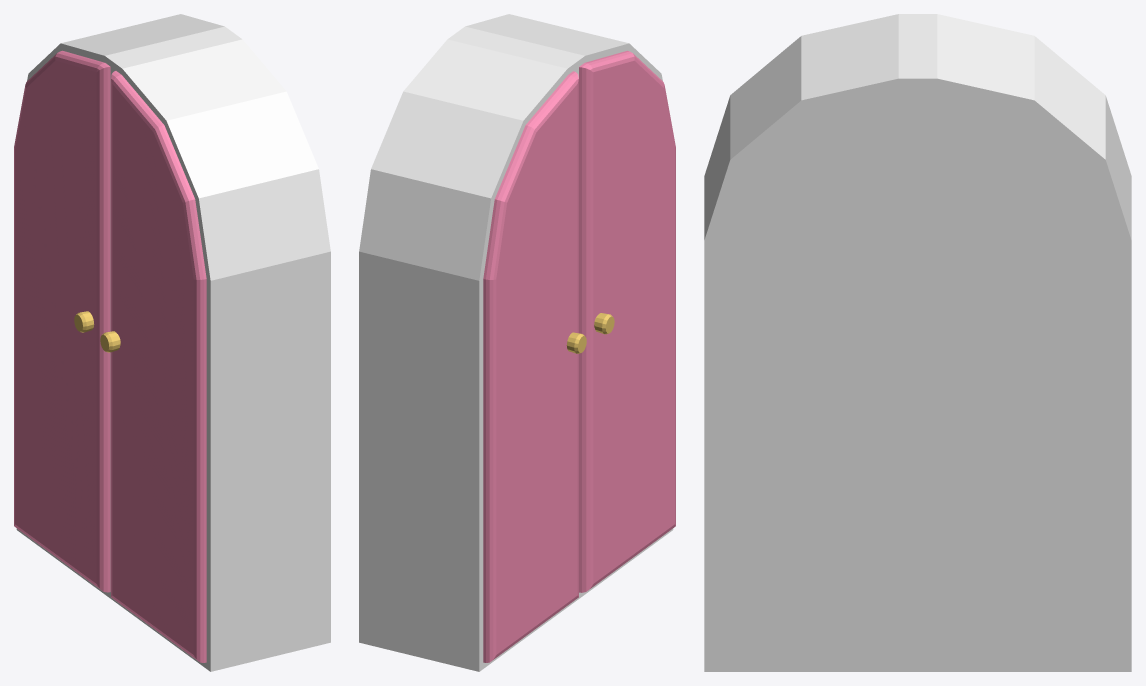
Rendered from Wardrobe_11.fbx.
3 views of the same model, side by side, from view 1: azimuth 30°, elevation 25°; view 2: azimuth 150°, elevation 25°; view 3: azimuth 270°, elevation 25° (orthographic). The views are drawn at different scales.
Parts seen in each view (by area): view 1: Wardrobe_11, Wardrobe_11 Door_1, Wardrobe_11 Door_2; view 2: Wardrobe_11, Wardrobe_11 Door_2, Wardrobe_11 Door_1; view 3: Wardrobe_11.
Boxes of the visible parts, x1=… form: Wardrobe_11: x1=16, y1=14, x2=330, y2=671; Wardrobe_11 Door_1: x1=100, y1=71, x2=206, y2=662; Wardrobe_11 Door_2: x1=14, y1=50, x2=110, y2=592; Wardrobe_11: x1=359, y1=14, x2=673, y2=671; Wardrobe_11 Door_2: x1=483, y1=71, x2=586, y2=662; Wardrobe_11 Door_1: x1=579, y1=50, x2=675, y2=592; Wardrobe_11: x1=704, y1=14, x2=1131, y2=671.
Bounding box in the file's own units: 0.5399 × 1.96 × 1.28.
